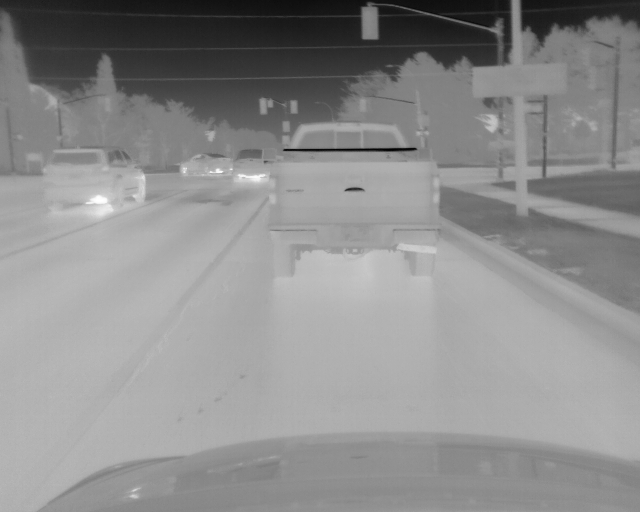car: (265, 121, 441, 279), (40, 144, 147, 214), (231, 146, 276, 182), (180, 153, 233, 178)
